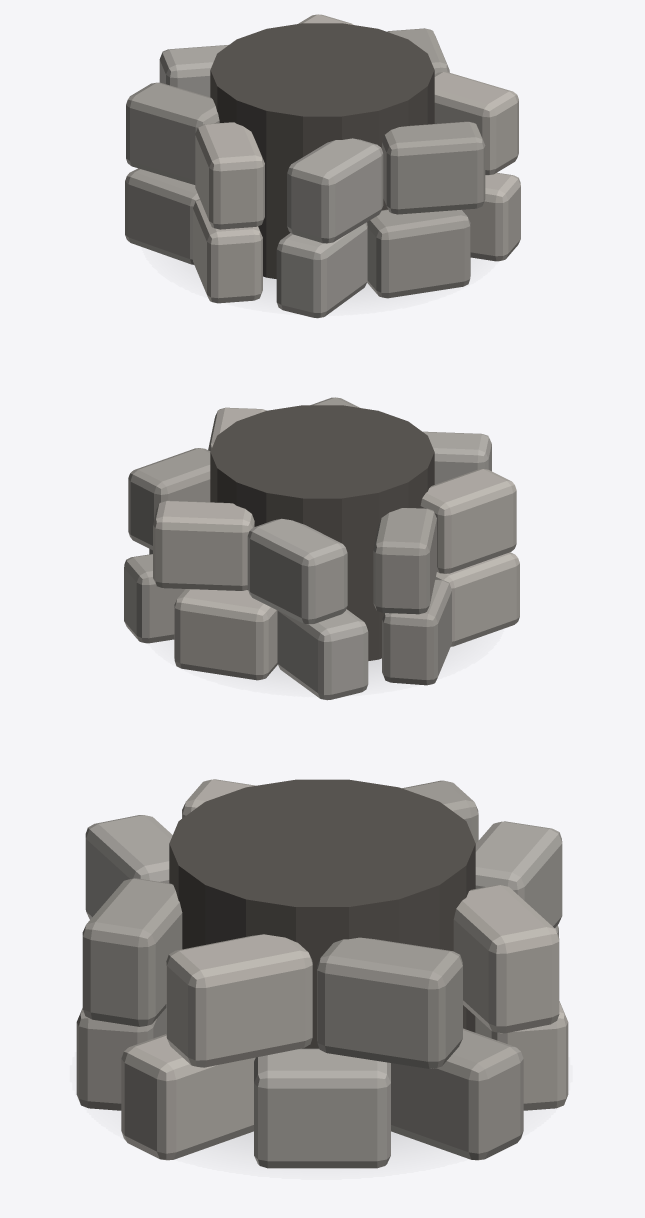
File: well.glb
The picture shows the model from 3 angles, top to bottom: view 1: azimuth 30°, elevation 25°; view 2: azimuth 150°, elevation 25°; view 3: azimuth 270°, elevation 25°; orthographic projection. The views are drawn at different scales.
Visible parts, largest first — view 1: innerDark, block.016, block.015, block.008, block.013, block.007, block.014, block.005, block, block.006, block.009, block.012 (+1 smaller); view 2: innerDark, block.012, block.003, block.011, block.014, block.004, block.013, block.005, block.006, block.010, block.002, block.015 (+1 smaller); view 3: innerDark, block, block.010, block.001, block.002, block.011, block.009, block.016, block.012, block.015, block.008, block.003 (+2 smaller).
Part boxes in pixels (<box>): innerDark: <box>210,23,434,278</box>; block.016: <box>382,121,485,214</box>; block.015: <box>287,138,383,243</box>; block.008: <box>367,209,470,298</box>; block.013: <box>126,82,219,184</box>; block.007: <box>276,222,367,318</box>; block.014: <box>195,122,264,229</box>; block.005: <box>125,168,199,264</box>; block: <box>434,72,518,175</box>; block.006: <box>193,199,262,303</box>; block.009: <box>462,172,520,261</box>; block.012: <box>159,45,228,97</box>; innerDark: <box>210,405,434,660</box>; block.012: <box>247,518,347,624</box>; block.003: <box>174,589,277,680</box>; block.011: <box>153,500,254,590</box>; block.014: <box>420,469,516,573</box>; block.004: <box>277,609,368,700</box>; block.013: <box>373,508,436,614</box>; block.005: <box>382,579,451,685</box>; block.006: <box>435,552,519,646</box>; block.010: <box>128,448,210,550</box>; block.002: <box>124,554,185,643</box>; block.015: <box>423,431,491,484</box>; innerDark: <box>169,779,475,1048</box>; block: <box>166,934,312,1067</box>; block.010: <box>317,937,462,1068</box>; block.001: <box>254,1048,390,1168</box>; block.002: <box>391,1028,523,1160</box>; block.011: <box>453,885,559,1033</box>; block.009: <box>121,1034,255,1160</box>; block.016: <box>82,878,182,1026</box>; block.012: <box>475,821,562,927</box>; block.015: <box>85,815,172,919</box>; block.008: <box>76,1007,166,1110</box>; block.003: <box>475,1001,568,1110</box>.
Bounding box in the file's own units: 1.35 × 0.555 × 1.35.
6 materials, 1 textured.
